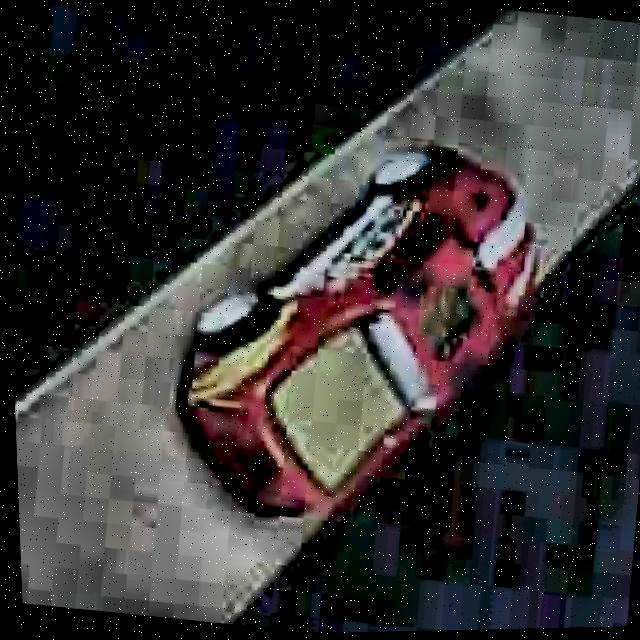car: (147, 111, 567, 553)
